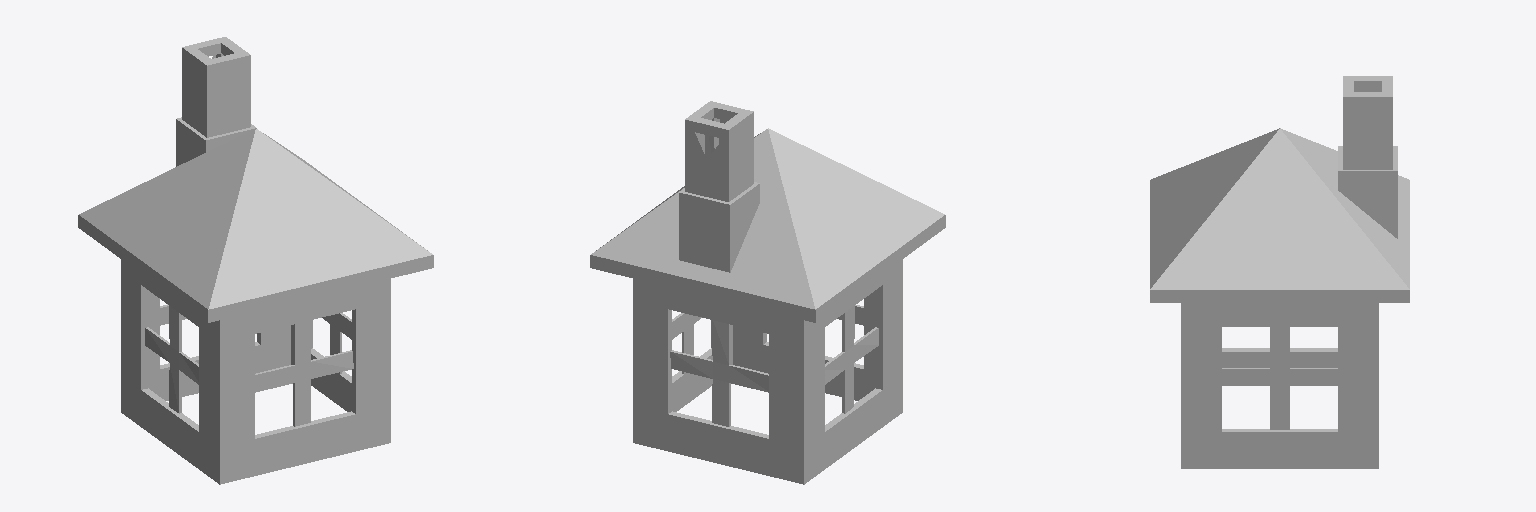
File: hut.obj
3 views of the same model, side by side, from view 1: azimuth 30°, elevation 25°; view 2: azimuth 150°, elevation 25°; view 3: azimuth 270°, elevation 25° (orthographic).
Visible parts, largest first — view 1: Cube; view 2: Cube; view 3: Cube.
Boxes of the visible parts, <box> form: Cube: <box>78,37,433,484</box>; Cube: <box>590,101,945,484</box>; Cube: <box>1150,76,1409,468</box>.
Size of the model in its own units: 2.62 by 3.82 by 2.62.